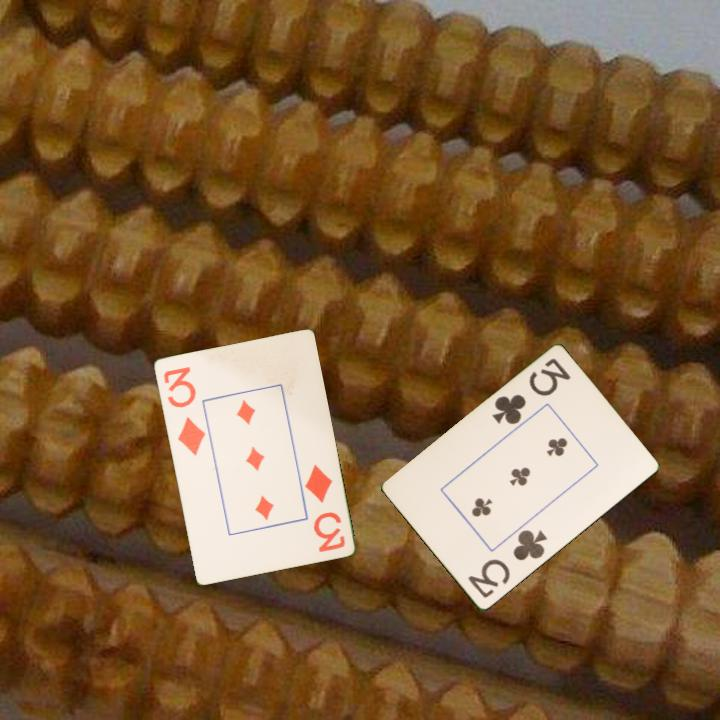3c: (464, 526, 550, 602), (488, 355, 574, 428)
3d: (160, 363, 208, 458), (301, 461, 348, 555)
